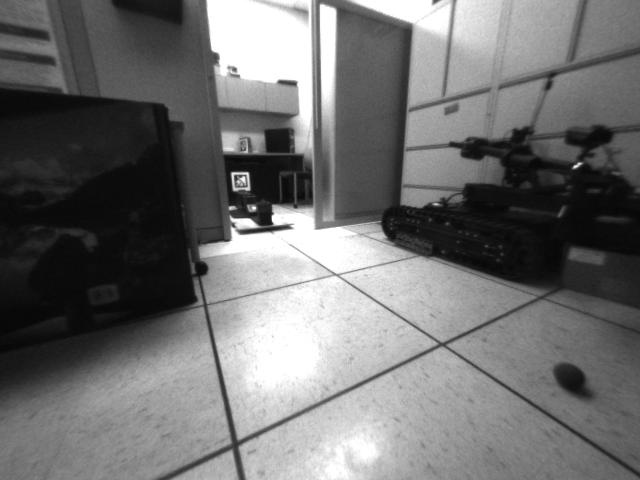dogtoy: (550, 353, 593, 399)
